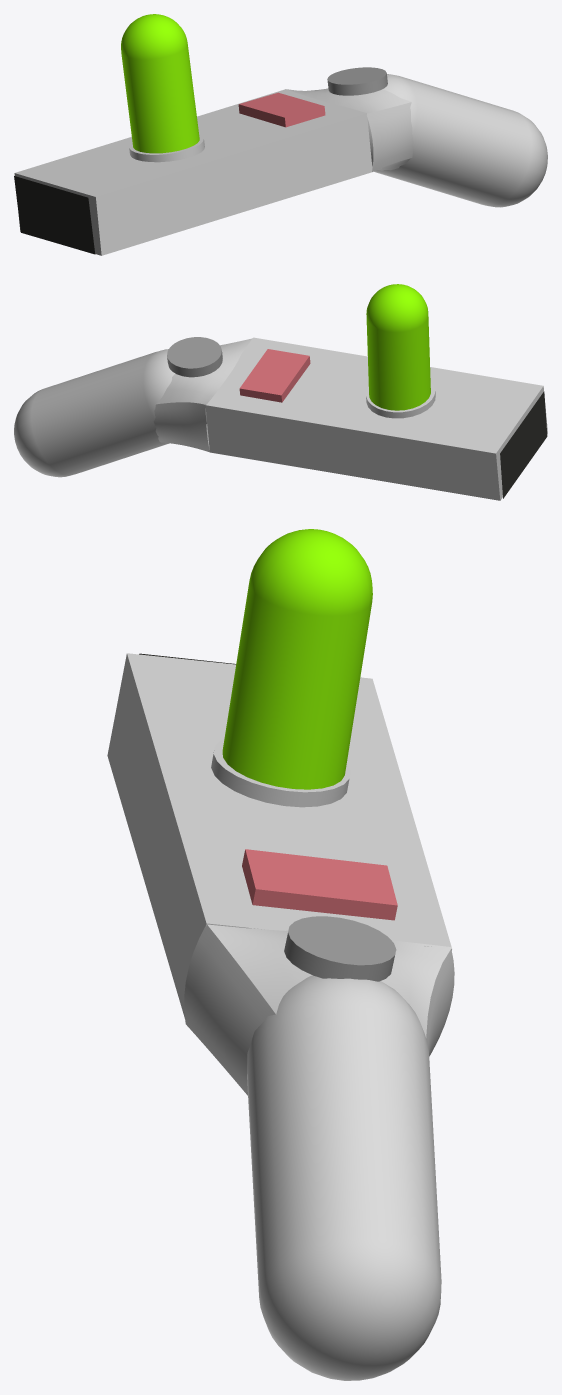
The model's file is teleporter.gltf.
3 views of the same model, one above another, from view 1: azimuth 30°, elevation 25°; view 2: azimuth 150°, elevation 25°; view 3: azimuth 270°, elevation 25° (orthographic). The views are drawn at different scales.
Parts seen in each view (by area): view 1: node-0; view 2: node-0; view 3: node-0.
Boxes of the visible parts, <box> form: node-0: <box>14,14,547,255</box>; node-0: <box>14,284,547,500</box>; node-0: <box>107,529,454,1380</box>.
Bounding box in the file's own units: 0.4168 × 0.2129 × 0.1295.
